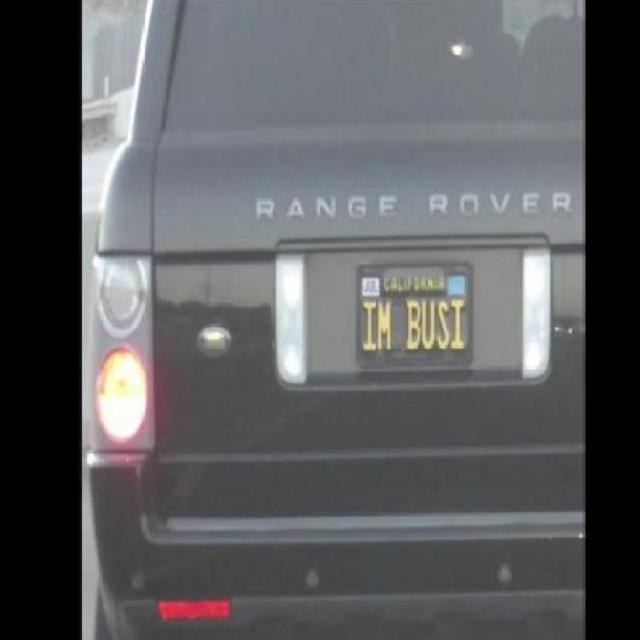LicensePlate: (362, 266, 473, 366)
